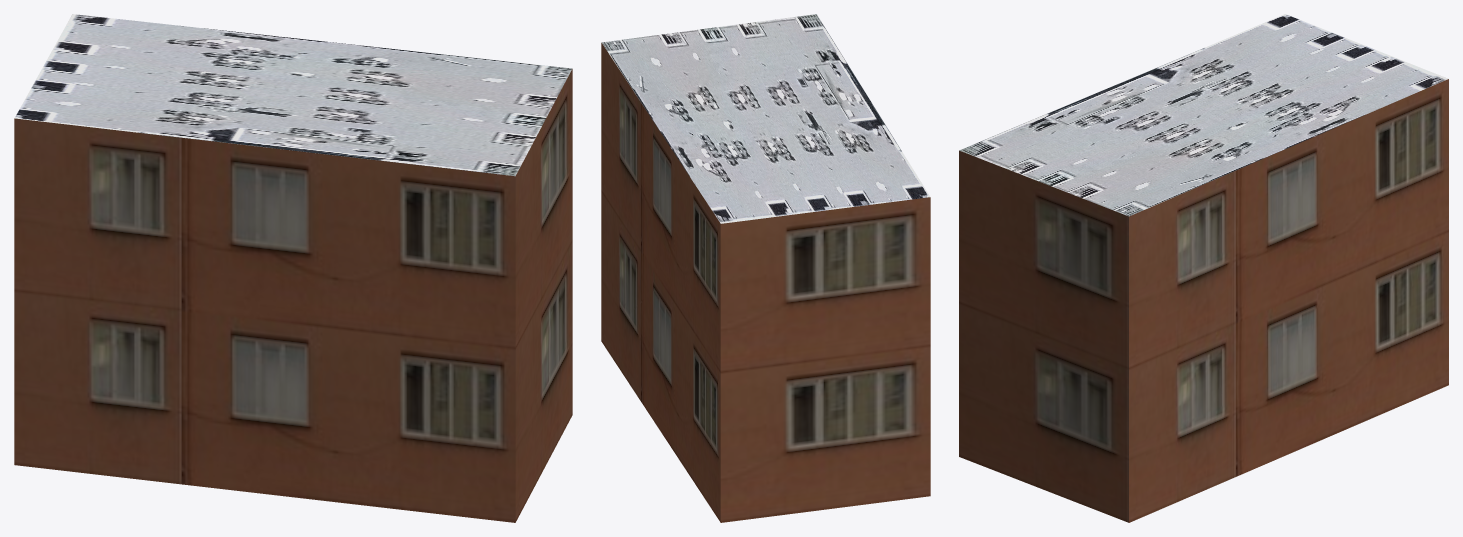
Rendered from ResTex__1657.fbx.
3 renders of one model, left to right at view 1: azimuth 30°, elevation 25°; view 2: azimuth 150°, elevation 25°; view 3: azimuth 270°, elevation 25°, orthographic. The views are drawn at different scales.
Parts seen in each view (by area): view 1: CityEngineMaterial_20_m, CityEngineMaterial_2_m; view 2: CityEngineMaterial_20_m, CityEngineMaterial_2_m; view 3: CityEngineMaterial_20_m, CityEngineMaterial_2_m.
Boxes of the visible parts, left/top/right/bottom form: CityEngineMaterial_20_m: left=14, top=69, right=572, bottom=522; CityEngineMaterial_2_m: left=14, top=14, right=572, bottom=176; CityEngineMaterial_20_m: left=601, top=43, right=930, bottom=522; CityEngineMaterial_2_m: left=601, top=14, right=930, bottom=223; CityEngineMaterial_20_m: left=959, top=79, right=1448, bottom=522; CityEngineMaterial_2_m: left=959, top=14, right=1448, bottom=216.
Bounding box in the file's own units: 8.51 × 6 × 8.69.
Materials: 2 (2 with a texture image).
